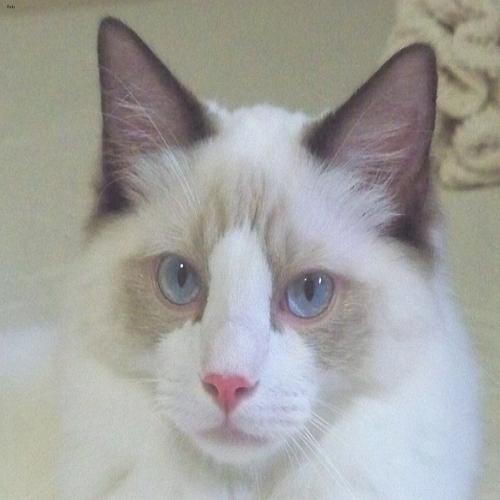ragdoll: (90, 4, 455, 479)
